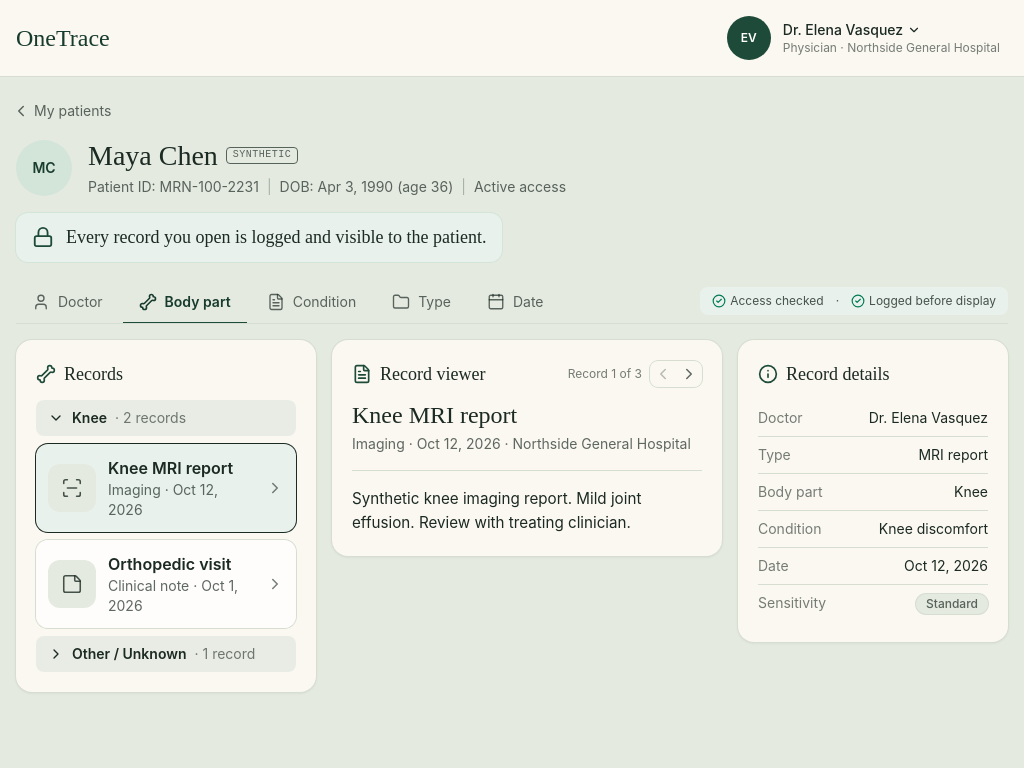
Test case: Patient records (mockup page 3, screen 3) › the pager walks through every record in the current grouping order
Expected: the text "Record 1 of 3" is shown, [568,366,642,382]
Click the link named "Next record" at (689, 374), box [680,365,698,383]
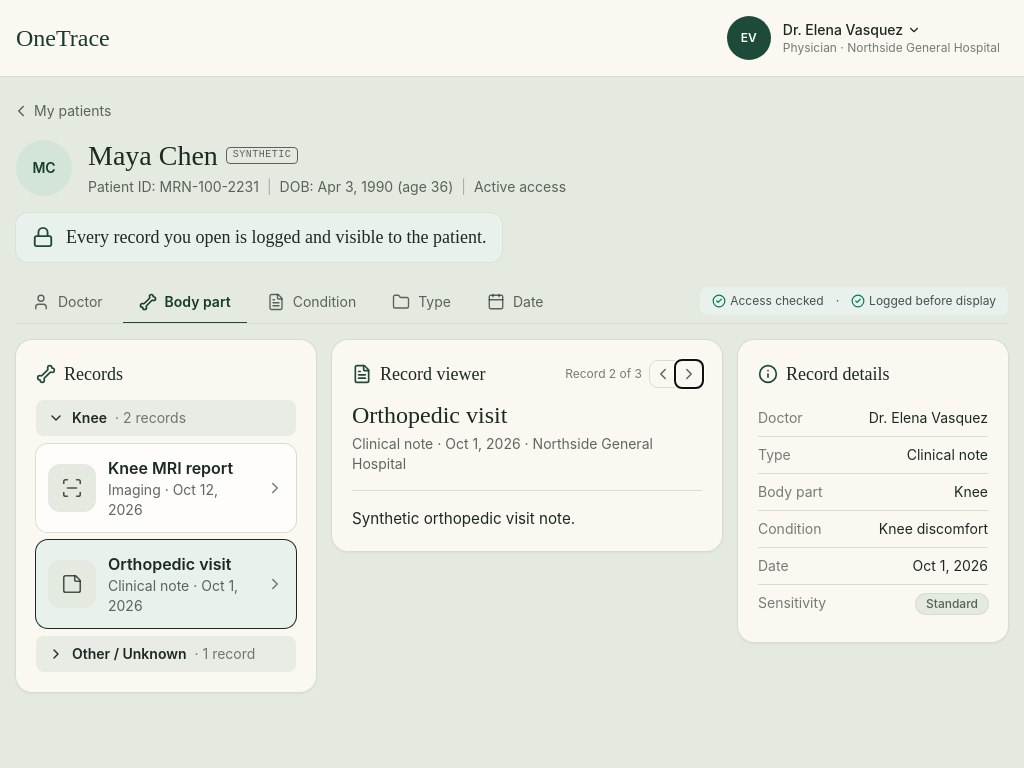
Result: the text "Record 2 of 3" is shown at [565,366,642,382]
Result: the heading "Orthopedic visit" is shown at [352,402,507,428]
Click the link named "Next record" at (689, 374), box [680,365,698,383]
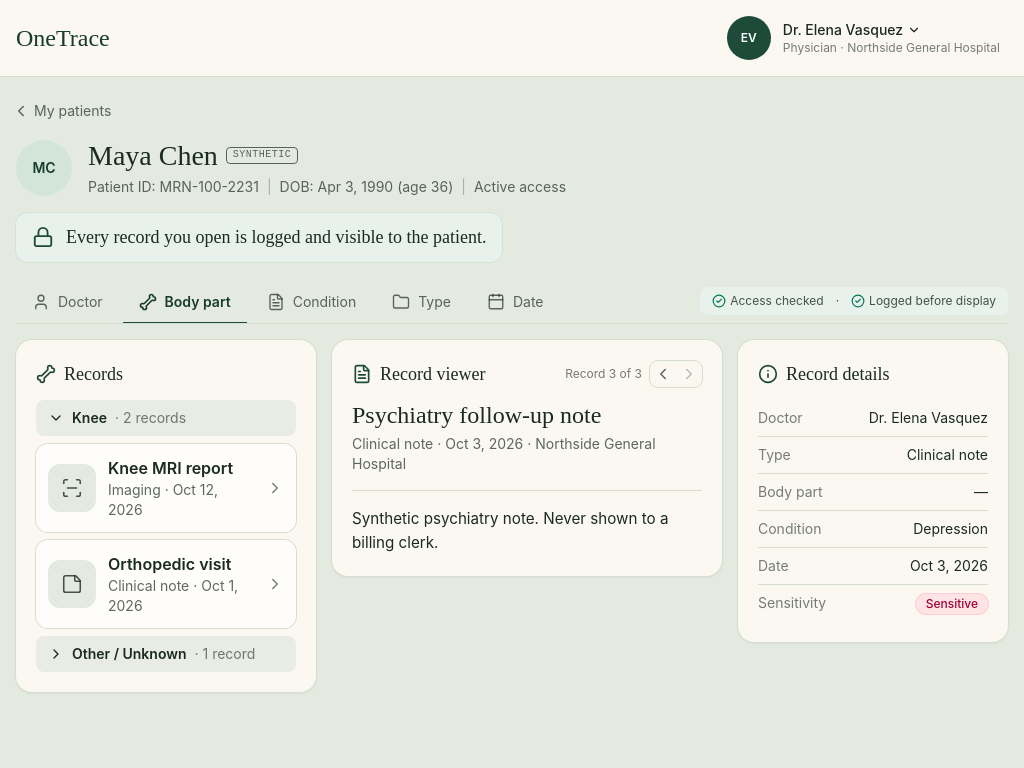
Result: the text "Record 3 of 3" is shown at [565,366,642,382]
Result: the text "Sensitive" is shown at [916,594,988,614]
Click the link named "Previous record" at (663, 374), box [654,365,672,383]
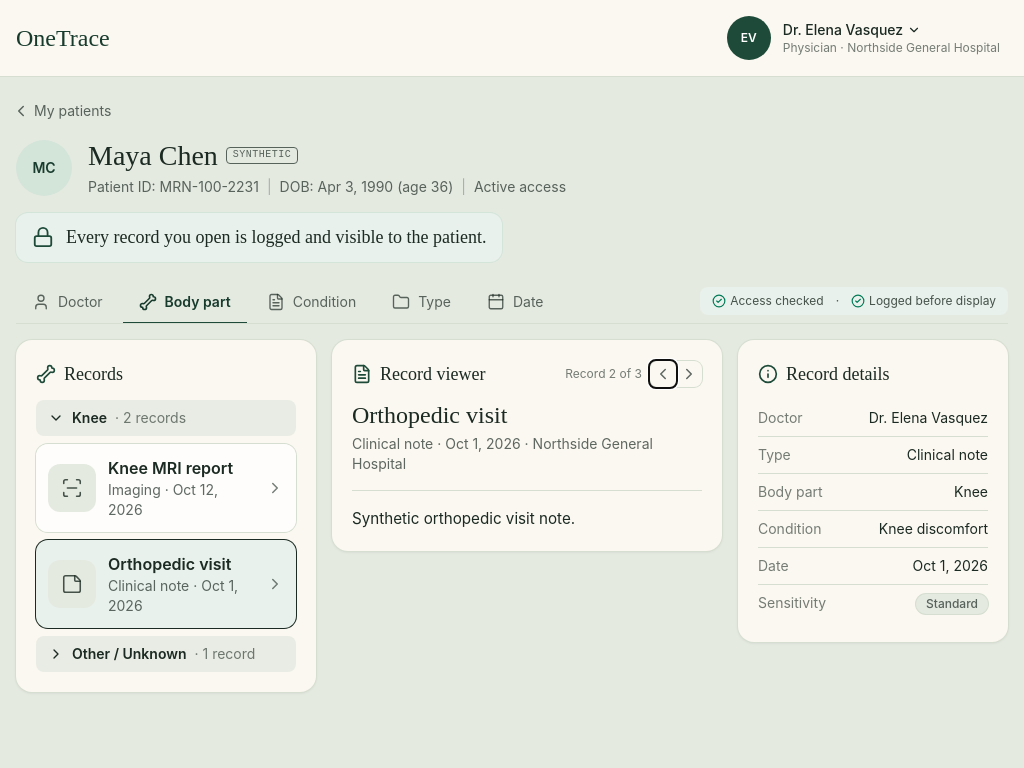
Result: the text "Record 2 of 3" is shown at [565,366,642,382]
